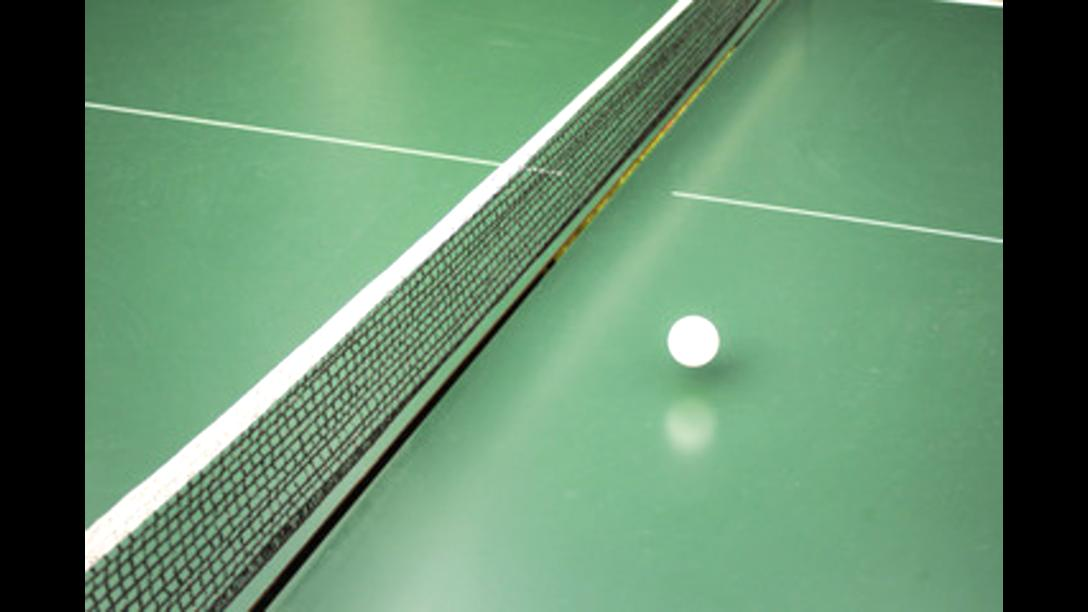Table-Tennis-Ball: (668, 316, 718, 366)
